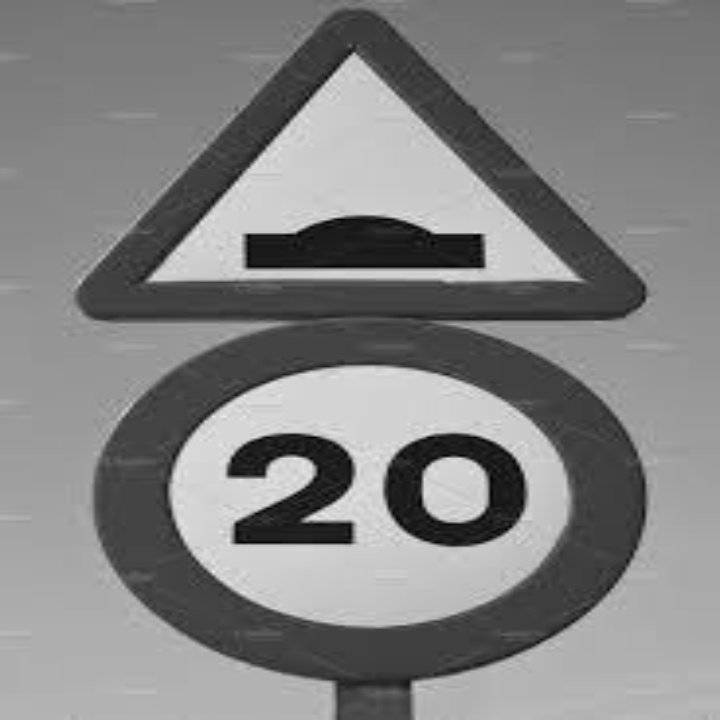bump: (213, 197, 512, 282)
